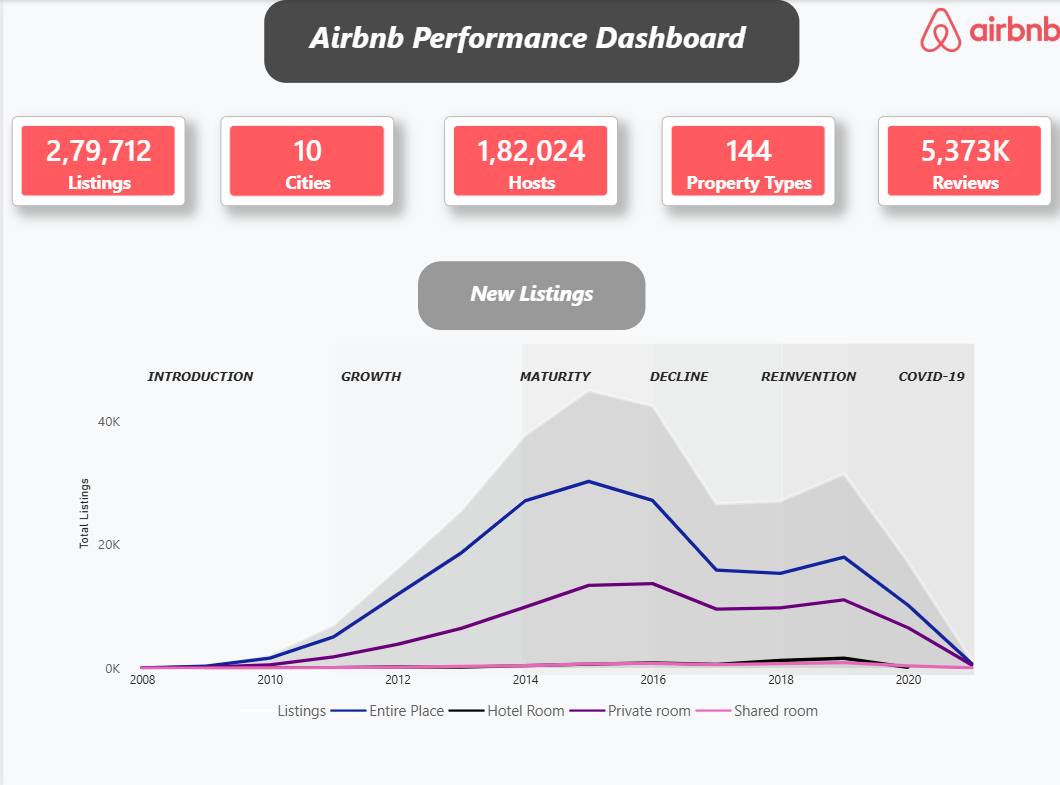

Layout of this report page (visuals, bound fields, positions):
{"tool":"powerbi","page":{"name":"Overview","canvas":[960,720],"ordinal":0},"visuals":[{"type":"textbox","box":[237.2,0,485.6,75.6],"z":0},{"type":"shape","box":[125.9,311.9,175.8,300.6],"z":1000},{"type":"image","box":[832.5,0,127.5,54],"z":2000},{"type":"shape","box":[301.7,311.9,169,300.6],"z":3000},{"type":"cardVisual","fields":{"Data":["CountNonNull(Listings.listing_id)"]},"box":[8.3,105.5,157.4,81.6],"z":4000},{"type":"shape","box":[470.7,311.9,119.1,300.6],"z":5000},{"type":"cardVisual","fields":{"Data":["Count(Listings.city)"]},"box":[197.6,105.7,157.4,81.6],"z":6000},{"type":"shape","box":[589.8,311.9,118,300.6],"z":7000},{"type":"cardVisual","fields":{"Data":["Count(Listings.host_id)"]},"box":[400.9,105.7,157.4,81.6],"z":8000},{"type":"shape","box":[707.7,311.5,59.2,300.8],"z":9000},{"type":"cardVisual","fields":{"Data":["Count(Listings.property_type)"]},"box":[597.6,105.3,157.4,81.6],"z":10000},{"type":"shape","box":[766.7,311.9,114.6,300.6],"z":11000},{"type":"cardVisual","fields":{"Data":["CountNonNull(Reviews.review_id)"]},"box":[794,105.5,157.4,81.6],"z":12000},{"type":"lineChart","fields":{"Y":["CountNonNull(Listings.listing_id)","Listings.Entire Place","Listings.Hotel Room","Listings.Private room","Listings.Shared room"],"Category":["Listings.host_since.Variation.Date Hierarchy.Year"]},"box":[63.6,311.8,832.7,351.8],"z":13000},{"type":"textbox","box":[376.2,237.5,206.2,62.5],"z":14000},{"type":"textbox","box":[126,327,111,33],"z":15000},{"type":"textbox","box":[302,327,111,33],"z":16000},{"type":"textbox","box":[464,327,111,33],"z":17000},{"type":"textbox","box":[582,327,111,33],"z":18000},{"type":"textbox","box":[683,327,111,33],"z":19000},{"type":"textbox","box":[807,327,111,33],"z":20000}]}

Visuals, with their boxes in screenshot pixels (x1, y1, x2, y2), scaled from the page's 960x720 canvas onto the 1060x785 screenshot:
textbox: 262 0 798 82
shape: 139 340 333 668
image: 919 0 1059 59
shape: 333 340 520 668
cardVisual - CountNonNull(Listings.listing_id): 9 115 183 204
shape: 520 340 651 668
cardVisual - Count(Listings.city): 218 115 392 204
shape: 651 340 782 668
cardVisual - Count(Listings.host_id): 443 115 616 204
shape: 781 340 847 668
cardVisual - Count(Listings.property_type): 660 115 834 204
shape: 847 340 973 668
cardVisual - CountNonNull(Reviews.review_id): 877 115 1051 204
lineChart - CountNonNull(Listings.listing_id) x Listings.Entire Place: 70 340 990 724
textbox: 415 259 643 327
textbox: 139 357 262 392
textbox: 333 357 456 392
textbox: 512 357 635 392
textbox: 643 357 765 392
textbox: 754 357 877 392
textbox: 891 357 1014 392
